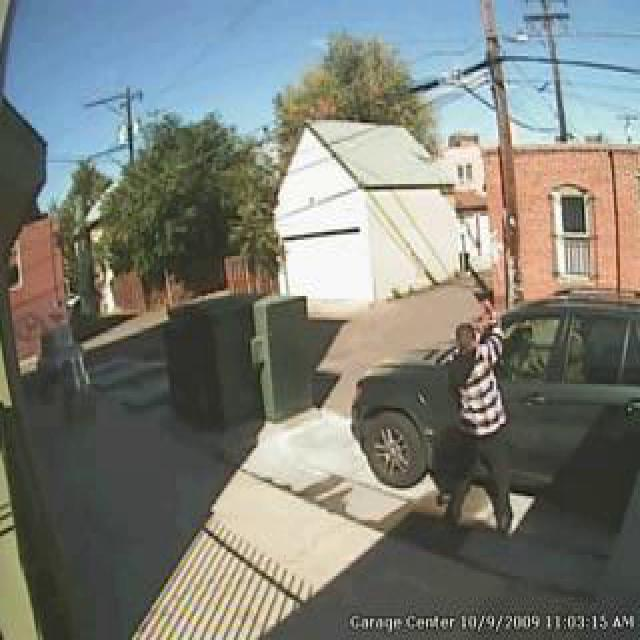stealing: (323, 123, 574, 640)
